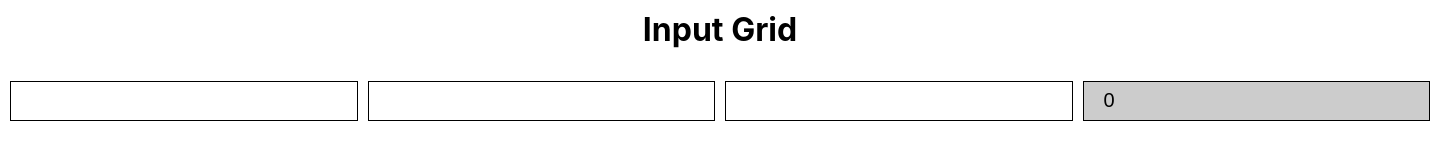
Test: Sums numbers
The image size is (1440, 160).
In the field named "first-input": (184, 101) [10,81,358,121], type "1"
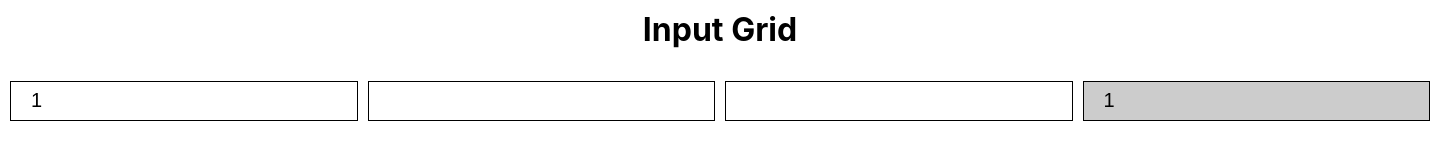
In the field named "second-input": (541, 101) [368,81,715,121], type "2"
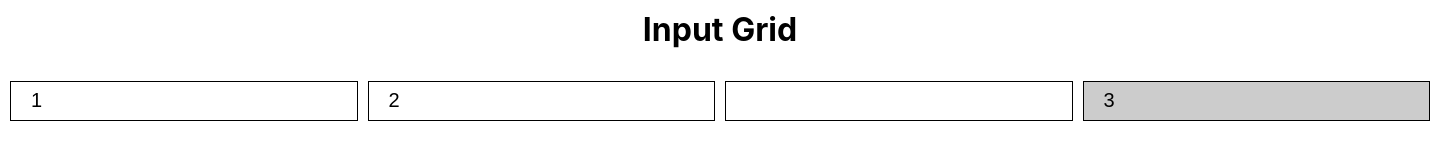
In the field named "third-input": (899, 101) [725,81,1072,121], type "3"
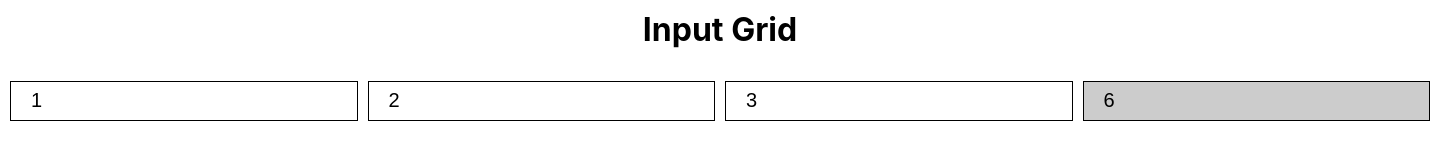
expect the field named "results-input" holds "6": met, box [1082,81,1430,121]
